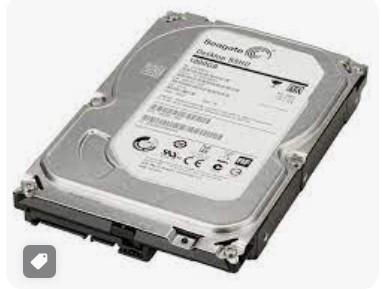internal HDD: (12, 11, 369, 276)
